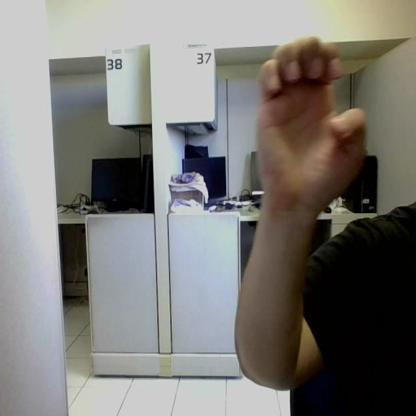E: (257, 37, 365, 202)
